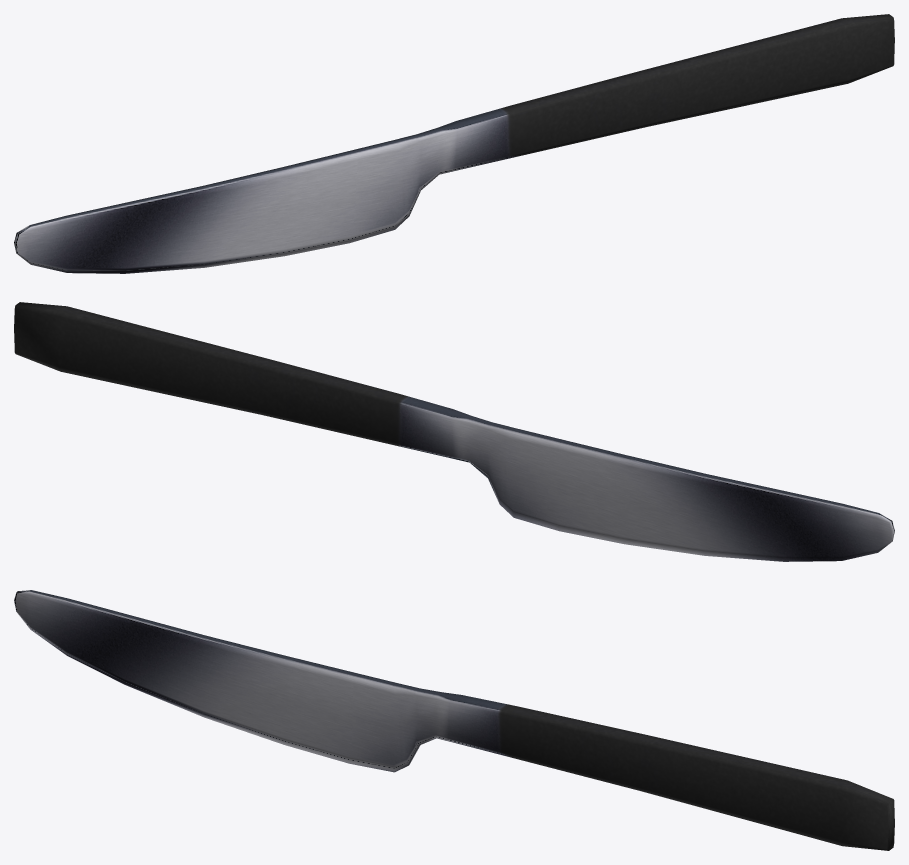
Rendered from 10318_Steak_Knife_v1_Iterations-2.obj.
3 views of the same model, one above another, from view 1: azimuth 30°, elevation 25°; view 2: azimuth 150°, elevation 25°; view 3: azimuth 330°, elevation 25° (orthographic).
Visible parts, largest first — view 1: 10318_Steak_Knife_v1_Iterations-2; view 2: 10318_Steak_Knife_v1_Iterations-2; view 3: 10318_Steak_Knife_v1_Iterations-2.
Boxes of the visible parts, bbox=[...] form: 10318_Steak_Knife_v1_Iterations-2: bbox=[14, 14, 894, 273]; 10318_Steak_Knife_v1_Iterations-2: bbox=[14, 302, 894, 561]; 10318_Steak_Knife_v1_Iterations-2: bbox=[14, 590, 894, 850].
Bounding box in the file's own units: 15.95 × 1.76 × 0.2976.
1 material, 1 textured.
